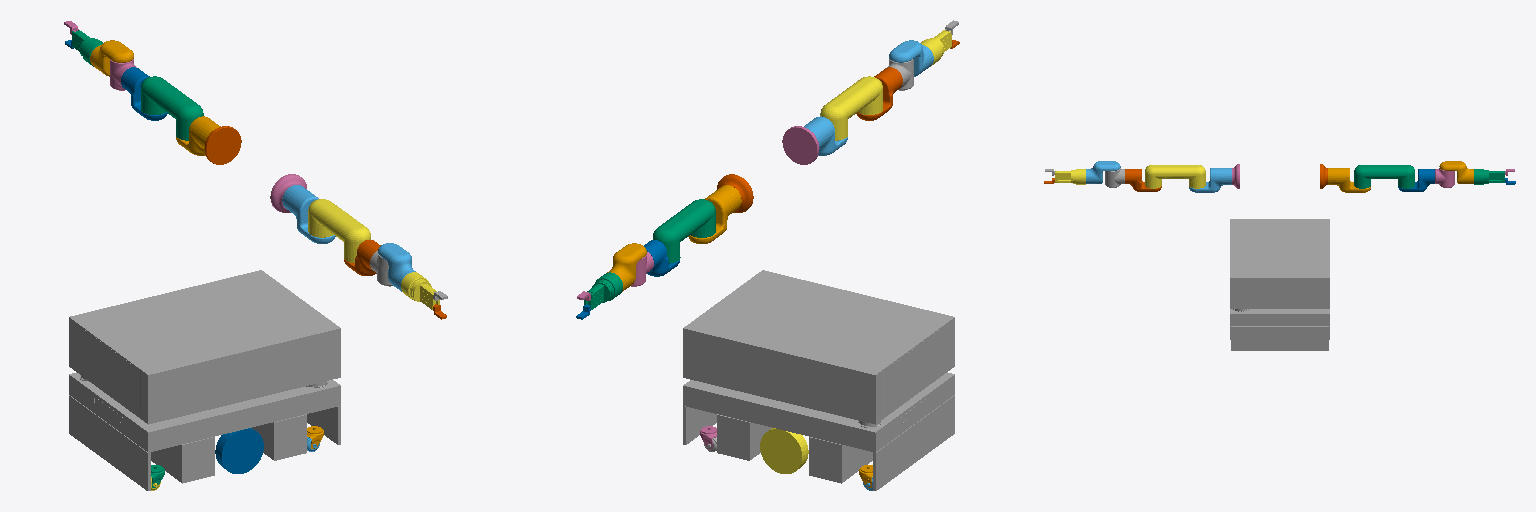
--- Facts derived from the render (not from the file) ---
The picture shows the robot from 3 angles, left to right: view 1: azimuth 30°, elevation 25°; view 2: azimuth 150°, elevation 25°; view 3: azimuth 270°, elevation 25°; orthographic projection.
Robot: arm_dualarm — 32 links, 31 joints (16 revolute, 6 continuous, 4 prismatic, 5 fixed); root link Dual_arm_Robot_Entire; default pose: all joints at 0.
Links seen in each view (by area): view 1: chassis_link, j2_Link_L, j2_Link_R, R_Big_Wheel_Link, base_link_L, j1_Link_R, j5_Link_R, j5_Link_L, j1_Link_L, j6_Link_R, j3_Link_L, j3_Link_R (+2 smaller); view 2: chassis_link, j2_Link_R, j2_Link_L, L_Big_Wheel_Link, base_link_R, j1_Link_L, j5_Link_L, j5_Link_R, j1_Link_R, j6_Link_L, j3_Link_R, j3_Link_L (+2 smaller); view 3: chassis_link, j2_Link_L, j2_Link_R, j1_Link_L, j1_Link_R.
Link boxes in pixels (x1=…): chassis_link: x1=69, y1=270, x2=340, y2=490; j2_Link_L: x1=141, y1=76, x2=203, y2=140; j2_Link_R: x1=308, y1=199, x2=370, y2=262; R_Big_Wheel_Link: x1=215, y1=428, x2=263, y2=473; base_link_L: x1=204, y1=126, x2=241, y2=164; j1_Link_R: x1=282, y1=185, x2=335, y2=243; j5_Link_R: x1=378, y1=243, x2=415, y2=291; j5_Link_L: x1=90, y1=40, x2=133, y2=76; j1_Link_L: x1=176, y1=116, x2=220, y2=155; j6_Link_R: x1=401, y1=272, x2=439, y2=309; j3_Link_L: x1=121, y1=67, x2=167, y2=120; j3_Link_R: x1=344, y1=240, x2=380, y2=275; chassis_link: x1=683, y1=270, x2=954, y2=490; j2_Link_R: x1=820, y1=76, x2=882, y2=140; j2_Link_L: x1=653, y1=199, x2=715, y2=263; L_Big_Wheel_Link: x1=760, y1=428, x2=808, y2=473; base_link_R: x1=782, y1=126, x2=819, y2=164; j1_Link_L: x1=688, y1=185, x2=741, y2=243; j5_Link_L: x1=607, y1=243, x2=646, y2=291; j5_Link_R: x1=889, y1=40, x2=933, y2=76; j1_Link_R: x1=804, y1=116, x2=847, y2=155; j6_Link_L: x1=584, y1=272, x2=622, y2=309; j3_Link_R: x1=856, y1=67, x2=902, y2=120; j3_Link_L: x1=644, y1=240, x2=679, y2=276; chassis_link: x1=1230, y1=219, x2=1329, y2=350; j2_Link_L: x1=1354, y1=165, x2=1414, y2=188; j2_Link_R: x1=1145, y1=165, x2=1205, y2=188; j1_Link_L: x1=1328, y1=168, x2=1370, y2=192; j1_Link_R: x1=1189, y1=168, x2=1231, y2=192.
Bounding box of the posed robot: 0.7058 × 2.39 × 0.9988 m (x, y, z).
33 mesh visuals loaded from 35 distinct referenced files (33 OBJ); not drawn: 2 (reference not matched to a file when rendering).

The robot description file, URDF, robot "arm_dualarm":
<?xml version="1.0" encoding="UTF-8"?>
<robot name="arm_dualarm">
  <joint name="FixedJoint" type="fixed">
    <origin xyz="0.19 0. 0.430636" rpy="0. 0. -1.5707964"/>
    <parent link="Dual_arm_Robot_Entire"/>
    <child link="chassis_link"/>
  </joint>
  <joint name="FixedJoint_L" type="fixed">
    <origin xyz="0.18693 0.2028 0.9262359" rpy="-1.5707964 -1.5707964 0. "/>
    <parent link="Dual_arm_Robot_Entire"/>
    <child link="base_link_L"/>
  </joint>
  <joint name="FixedJoint_R" type="fixed">
    <origin xyz="0.1869287 -0.2028 0.9267368" rpy="-2.9101152 1.570796 1.8022738"/>
    <parent link="Dual_arm_Robot_Entire"/>
    <child link="base_link_R"/>
  </joint>
  <joint name="j1_Joint_L" type="revolute">
    <origin xyz="0.0000001 0. 0.0485 " rpy="0. -0. -3.1415856"/>
    <parent link="base_link_L"/>
    <child link="j1_Link_L"/>
    <axis xyz="0. 0. 1."/>
    <limit lower="-3.0543262" upper="3.0543262" effort="340282346638528859811704183484516925440." velocity="0.8726646"/>
  </joint>
  <joint name="j1_Joint_R" type="revolute">
    <origin xyz="-0. 0. 0.0485" rpy="-0.0000001 -0.0000003 0.0000073"/>
    <parent link="base_link_R"/>
    <child link="j1_Link_R"/>
    <axis xyz="0. 0. 1."/>
    <limit lower="-3.0543262" upper="3.0543262" effort="340282346638528859811704183484516925440." velocity="0.8726646"/>
  </joint>
  <joint name="j2_Joint_L" type="revolute">
    <origin xyz="0.041 0. 0.1685" rpy="-1.5708 -0.0000001 1.5708 "/>
    <parent link="j1_Link_L"/>
    <child link="j2_Link_L"/>
    <axis xyz="0. 0. 1."/>
    <limit lower="-2.0071286" upper="2.0071286" effort="340282346638528859811704183484516925440." velocity="0.8726646"/>
  </joint>
  <joint name="j2_Joint_R" type="revolute">
    <origin xyz="0.041 -0. 0.1685" rpy="-1.5708 -0.0000001 1.5708 "/>
    <parent link="j1_Link_R"/>
    <child link="j2_Link_R"/>
    <axis xyz="0. 0. 1."/>
    <limit lower="-2.0071286" upper="2.0071286" effort="340282346638528859811704183484516925440." velocity="0.8726646"/>
  </joint>
  <joint name="j3_Joint_L" type="revolute">
    <origin xyz="0. -0.223 -0.002" rpy="-0. -0. 3.1415854"/>
    <parent link="j2_Link_L"/>
    <child link="j3_Link_L"/>
    <axis xyz="0. 0. 1."/>
    <limit lower="-1.9198622" upper="1.9198622" effort="340282346638528859811704183484516925440." velocity="0.8726646"/>
  </joint>
  <joint name="j3_Joint_R" type="revolute">
    <origin xyz="-0. -0.223 -0.002" rpy="-0. -0. 3.1415854"/>
    <parent link="j2_Link_R"/>
    <child link="j3_Link_R"/>
    <axis xyz="0. 0. 1."/>
    <limit lower="-1.9198622" upper="1.9198622" effort="340282346638528859811704183484516925440." velocity="0.8726646"/>
  </joint>
  <joint name="j4_Joint_L" type="revolute">
    <origin xyz="-0. 0.1379999 0.043 " rpy="-1.5385476 -1.5707927 3.1093476"/>
    <parent link="j3_Link_L"/>
    <child link="j4_Link_L"/>
    <axis xyz="0. 0. 1."/>
    <limit lower="-3.0543262" upper="3.0543262" effort="340282346638528859811704183484516925440." velocity="0.8726646"/>
  </joint>
  <joint name="j4_Joint_R" type="revolute">
    <origin xyz="-0. 0.1379999 0.043 " rpy="-1.5314447 -1.5707926 3.1022446"/>
    <parent link="j3_Link_R"/>
    <child link="j4_Link_R"/>
    <axis xyz="0. 0. 1."/>
    <limit lower="-3.0543262" upper="3.0543262" effort="340282346638528859811704183484516925440." velocity="0.8726646"/>
  </joint>
  <joint name="j5_Joint_L" type="revolute">
    <origin xyz="0.041488 0.0009849 -0.0675 " rpy="1.5708001 0. -1.5470998"/>
    <parent link="j4_Link_L"/>
    <child link="j5_Link_L"/>
    <axis xyz="0. 0. 1."/>
    <limit lower="-1.8325957" upper="1.8325957" effort="340282346638528859811704183484516925440." velocity="0.8726646"/>
  </joint>
  <joint name="j5_Joint_R" type="revolute">
    <origin xyz="0.041488 0.0009849 -0.0675 " rpy="1.5708001 -0.0000001 -1.5471 "/>
    <parent link="j4_Link_R"/>
    <child link="j5_Link_R"/>
    <axis xyz="0. 0. 1."/>
    <limit lower="-1.8325957" upper="1.8325957" effort="340282346638528859811704183484516925440." velocity="0.8726646"/>
  </joint>
  <joint name="j6_Joint_L" type="revolute">
    <origin xyz="0. -0.137 0.043" rpy="1.5704962 1.547107 -0.0003038"/>
    <parent link="j5_Link_L"/>
    <child link="j6_Link_L"/>
    <axis xyz="0. 0. 1."/>
    <limit lower="-6.2831853" upper="6.2831853" effort="340282346638528859811704183484516925440." velocity="0.8726646"/>
  </joint>
  <joint name="j6_Joint_R" type="revolute">
    <origin xyz="0. -0.137 0.043" rpy="1.5704962 1.547107 -0.0003038"/>
    <parent link="j5_Link_R"/>
    <child link="j6_Link_R"/>
    <axis xyz="0. 0. 1."/>
    <limit lower="-6.2831853" upper="6.2831853" effort="340282346638528859811704183484516925440." velocity="0.8726646"/>
  </joint>
  <joint name="j6_fingerA_Joint_L" type="prismatic">
    <origin xyz="-0.0191426 0.0002141 0.1466099" rpy="1.5707964 0. 1.5707963"/>
    <parent link="j6_Link_L"/>
    <child link="j6_fingerA_Link_L"/>
    <axis xyz="0. 0. 1."/>
    <limit lower="0." upper="0.011" effort="340282346638528859811704183484516925440." velocity="0.005"/>
  </joint>
  <joint name="j6_fingerA_Joint_R" type="prismatic">
    <origin xyz="-0.0191469 0.0002139 0.1466147" rpy="1.5707964 0. 1.5707963"/>
    <parent link="j6_Link_R"/>
    <child link="j6_fingerA_Link_R"/>
    <axis xyz="0. 0. 1."/>
    <limit lower="0." upper="0.011" effort="340282346638528859811704183484516925440." velocity="0.005"/>
  </joint>
  <joint name="j6_fingerB_Joint_L" type="prismatic">
    <origin xyz="0.0191374 -0.0006859 0.1464498" rpy="1.5707964 0. -1.5707965"/>
    <parent link="j6_Link_L"/>
    <child link="j6_fingerB_Link_L"/>
    <axis xyz="0. 0. 1."/>
    <limit lower="0." upper="0.011" effort="340282346638528859811704183484516925440." velocity="0.005"/>
  </joint>
  <joint name="j6_fingerB_Joint_R" type="prismatic">
    <origin xyz="0.0191423 -0.0006837 0.1464498" rpy="1.5707965 0.0000001 -1.5707965"/>
    <parent link="j6_Link_R"/>
    <child link="j6_fingerB_Link_R"/>
    <axis xyz="0. 0. 1."/>
    <limit lower="0." upper="0.011" effort="340282346638528859811704183484516925440." velocity="0.005"/>
  </joint>
  <joint name="joint_BL_caster" type="continuous">
    <origin xyz="-0.0169362 0. -0.04975 " rpy="0. 0. 0."/>
    <parent link="BL_Bracket_Link"/>
    <child link="BL_Wheel_Link"/>
    <axis xyz="0. 1. 0."/>
  </joint>
  <joint name="joint_BL_swing" type="revolute">
    <origin xyz="-0.1913949 -0.48123 -0.3523094" rpy="0. 0. 1.5707964"/>
    <parent link="chassis_link"/>
    <child link="BL_Bracket_Link"/>
    <axis xyz="0. 0. 1."/>
    <limit lower="-6.2831853" upper="6.2831853" effort="10000000." velocity="1.7453293"/>
  </joint>
  <joint name="joint_BR_caster" type="continuous">
    <origin xyz="-0.01694 0. -0.04975" rpy="0. 0. 0."/>
    <parent link="BR_Bracket_Link"/>
    <child link="BR_Wheel_Link"/>
    <axis xyz="0. 1. 0."/>
  </joint>
  <joint name="joint_BR_swing" type="revolute">
    <origin xyz="0.19139 -0.48123 -0.3523094" rpy="0. 0. 1.5707964"/>
    <parent link="chassis_link"/>
    <child link="BR_Bracket_Link"/>
    <axis xyz="0. 0. 1."/>
    <limit lower="-6.2831853" upper="6.2831853" effort="10000000." velocity="1.7453293"/>
  </joint>
  <joint name="joint_Dual_arm_Robot_Entire-Camera" type="fixed">
    <origin xyz="0.2920578 0. 1.140007 " rpy="1.0471976 0. -1.5707964"/>
    <parent link="Dual_arm_Robot_Entire"/>
    <child link="Camera"/>
  </joint>
  <joint name="joint_FL_caster" type="continuous">
    <origin xyz="-0.017 0. -0.04975" rpy="0. 0. 0."/>
    <parent link="FL_Bracket_Link"/>
    <child link="FL_Wheel_Link"/>
    <axis xyz="0. 1. 0."/>
  </joint>
  <joint name="joint_FL_swing" type="revolute">
    <origin xyz="-0.1913949 0.1012312 -0.3523094" rpy="0. 0. 1.5707964"/>
    <parent link="chassis_link"/>
    <child link="FL_Bracket_Link"/>
    <axis xyz="0. 0. 1."/>
    <limit lower="-6.2831853" upper="6.2831853" effort="10000000." velocity="1.7453293"/>
  </joint>
  <joint name="joint_FR_caster" type="continuous">
    <origin xyz="-0.017 0. -0.04975" rpy="0. 0. 0."/>
    <parent link="FR_Bracket_Link"/>
    <child link="FR_Wheel_Link"/>
    <axis xyz="0. 1. 0."/>
  </joint>
  <joint name="joint_FR_swing" type="revolute">
    <origin xyz="0.19139 0.1012312 -0.3523094" rpy="0. 0. 1.5707964"/>
    <parent link="chassis_link"/>
    <child link="FR_Bracket_Link"/>
    <axis xyz="0. 0. 1."/>
    <limit lower="-6.2831853" upper="6.2831853" effort="10000000." velocity="1.7453293"/>
  </joint>
  <joint name="joint_L" type="continuous">
    <origin xyz="-0.22 -0.19 -0.3502465" rpy="0. 0. 1.5707964"/>
    <parent link="chassis_link"/>
    <child link="L_Big_Wheel_Link"/>
    <axis xyz="0. 1. 0."/>
  </joint>
  <joint name="joint_R" type="continuous">
    <origin xyz="0.22 -0.19 -0.350246" rpy="0. 0. 1.5707964"/>
    <parent link="chassis_link"/>
    <child link="R_Big_Wheel_Link"/>
    <axis xyz="0. 1. 0."/>
  </joint>
  <joint name="joint_chassis_link-Imu_Sensor" type="fixed">
    <origin xyz="0. -0.19 -0.030636" rpy="0. 0. 1.5707964"/>
    <parent link="chassis_link"/>
    <child link="Imu_Sensor"/>
  </joint>
  <link name="BL_Bracket_Link">
    <inertial>
      <origin xyz="0. 0. 0." rpy="0. 0. 0."/>
      <mass value="0.2598"/>
      <inertia ixx="0.001" ixy="0." ixz="0." iyy="0.001" iyz="0." izz="0.001"/>
    </inertial>
    <visual>
      <origin xyz="0.2887688 -0.192554 -0.0736793" rpy="0. 0. 0."/>
      <geometry>
        <mesh filename="package://dualarm_description/meshes/BL_Bracket_Link_visuals_009_visuals_009.obj" scale="1. 1. 1."/>
      </geometry>
    </visual>
  </link>
  <link name="BL_Wheel_Link">
    <inertial>
      <origin xyz="0. 0. 0." rpy="0. 0. 0."/>
      <mass value="0.08378"/>
      <inertia ixx="0.001" ixy="0." ixz="0." iyy="0.001" iyz="0." izz="0.001"/>
    </inertial>
    <visual>
      <origin xyz="0. 0. 0." rpy="1.5707964 0. 0. "/>
      <geometry>
        <cylinder radius="0.025" length="0.04"/>
      </geometry>
    </visual>
    <visual>
      <origin xyz="0.3057688 -0.192554 -0.0239293" rpy="0. 0. 0."/>
      <geometry>
        <mesh filename="package://dualarm_description/meshes/BL_Wheel_Link_visuals_007_visuals_007.obj" scale="1. 1. 1."/>
      </geometry>
    </visual>
    <collision>
      <origin xyz="0. 0. 0." rpy="1.5707964 0. 0. "/>
      <geometry>
        <cylinder radius="0.025" length="0.04"/>
      </geometry>
    </collision>
  </link>
  <link name="BR_Bracket_Link">
    <inertial>
      <origin xyz="0. 0. 0." rpy="0. 0. 0."/>
      <mass value="0.2598"/>
      <inertia ixx="0.001" ixy="0." ixz="0." iyy="0.001" iyz="0." izz="0.001"/>
    </inertial>
    <visual>
      <origin xyz="0.2887688 0.187446 -0.0736793" rpy="0. 0. 0."/>
      <geometry>
        <mesh filename="package://dualarm_description/meshes/BR_Bracket_Link_visuals_005_visuals_005.obj" scale="1. 1. 1."/>
      </geometry>
    </visual>
  </link>
  <link name="BR_Wheel_Link">
    <inertial>
      <origin xyz="0. 0. 0." rpy="0. 0. 0."/>
      <mass value="0.08378"/>
      <inertia ixx="0.001" ixy="0." ixz="0." iyy="0.001" iyz="0." izz="0.001"/>
    </inertial>
    <visual>
      <origin xyz="0. 0. 0." rpy="1.5707964 0. 0. "/>
      <geometry>
        <cylinder radius="0.025" length="0.04"/>
      </geometry>
    </visual>
    <visual>
      <origin xyz="0.3057688 0.187446 -0.0239293" rpy="0. 0. 0."/>
      <geometry>
        <mesh filename="package://dualarm_description/meshes/BR_Wheel_Link_visuals_004_visuals_004.obj" scale="1. 1. 1."/>
      </geometry>
    </visual>
    <collision>
      <origin xyz="0. 0. 0." rpy="1.5707964 0. 0. "/>
      <geometry>
        <cylinder radius="0.025" length="0.04"/>
      </geometry>
    </collision>
  </link>
  <link name="Camera"/>
  <link name="Dual_arm_Robot_Entire">
    <visual>
      <origin xyz="0.19 0. 0.430636" rpy="0. 0. -1.5707964"/>
      <geometry>
        <mesh filename="package://dualarm_description/meshes/body_link_mesh.obj" scale="1. 1. 1."/>
      </geometry>
    </visual>
    <collision>
      <origin xyz="0.19 0. 0.430636" rpy="0. 0. -1.5707964"/>
      <geometry>
        <mesh filename="package://dualarm_description/meshes/body_link_mesh.obj" scale="1. 1. 1."/>
      </geometry>
    </collision>
  </link>
  <link name="FL_Bracket_Link">
    <inertial>
      <origin xyz="0. 0. 0." rpy="0. 0. 0."/>
      <mass value="0.2598"/>
      <inertia ixx="0.001" ixy="0." ixz="0." iyy="0.001" iyz="0." izz="0.001"/>
    </inertial>
    <visual>
      <origin xyz="-0.2912312 -0.192554 -0.0736793" rpy="0. 0. 0."/>
      <geometry>
        <mesh filename="package://dualarm_description/meshes/FL_Bracket_Link_visuals_002_visuals_002.obj" scale="1. 1. 1."/>
      </geometry>
    </visual>
  </link>
  <link name="FL_Wheel_Link">
    <inertial>
      <origin xyz="0. 0. 0." rpy="0. 0. 0."/>
      <mass value="0.08378"/>
      <inertia ixx="0.001" ixy="0." ixz="0." iyy="0.001" iyz="0." izz="0.001"/>
    </inertial>
    <visual>
      <origin xyz="0. 0. 0." rpy="1.5707964 0. 0. "/>
      <geometry>
        <cylinder radius="0.025" length="0.04"/>
      </geometry>
    </visual>
    <visual>
      <origin xyz="-0.2742312 -0.192554 -0.0239293" rpy="0. 0. 0."/>
      <geometry>
        <mesh filename="package://dualarm_description/meshes/FL_Wheel_Link_visuals_001_visuals_001.obj" scale="1. 1. 1."/>
      </geometry>
    </visual>
    <collision>
      <origin xyz="0. 0. 0." rpy="1.5707964 0. 0. "/>
      <geometry>
        <cylinder radius="0.025" length="0.04"/>
      </geometry>
    </collision>
  </link>
  <link name="FR_Bracket_Link">
    <inertial>
      <origin xyz="0. 0. 0." rpy="0. 0. 0."/>
      <mass value="0.2598"/>
      <inertia ixx="0.001" ixy="0." ixz="0." iyy="0.001" iyz="0." izz="0.001"/>
    </inertial>
    <visual>
      <origin xyz="-0.2912312 0.187446 -0.0736793" rpy="0. 0. 0."/>
      <geometry>
        <mesh filename="package://dualarm_description/meshes/FR_Bracket_Link_visuals_003_visuals_003.obj" scale="1. 1. 1."/>
      </geometry>
    </visual>
  </link>
  <link name="FR_Wheel_Link">
    <inertial>
      <origin xyz="0. 0. 0." rpy="0. 0. 0."/>
      <mass value="0.08378"/>
      <inertia ixx="0.001" ixy="0." ixz="0." iyy="0.001" iyz="0." izz="0.001"/>
    </inertial>
    <visual>
      <origin xyz="0. 0. 0." rpy="1.5707964 0. 0. "/>
      <geometry>
        <cylinder radius="0.025" length="0.04"/>
      </geometry>
    </visual>
    <visual>
      <origin xyz="-0.2742312 0.187446 -0.0239293" rpy="0. 0. 0."/>
      <geometry>
        <mesh filename="package://dualarm_description/meshes/FR_Wheel_Link_visuals_006_visuals_006.obj" scale="1. 1. 1."/>
      </geometry>
    </visual>
    <collision>
      <origin xyz="0. 0. 0." rpy="1.5707964 0. 0. "/>
      <geometry>
        <cylinder radius="0.025" length="0.04"/>
      </geometry>
    </collision>
  </link>
  <link name="Imu_Sensor"/>
  <link name="L_Big_Wheel_Link">
    <inertial>
      <origin xyz="0. 0. 0." rpy="0. 0. 0."/>
      <mass value="0.83092"/>
      <inertia ixx="0.001" ixy="0." ixz="0." iyy="0.001" iyz="0." izz="0.001"/>
    </inertial>
    <visual>
      <origin xyz="0. 0. 0." rpy="1.5707964 0. 0. "/>
      <geometry>
        <cylinder radius="0.0775" length="0.04"/>
      </geometry>
    </visual>
    <visual>
      <origin xyz="-0.0012313 -0.220554 -0.0734293" rpy="0. 0. 0."/>
      <geometry>
        <mesh filename="package://dualarm_description/meshes/L_Big_Wheel_Link_visuals_011_visuals_011.obj" scale="1. 1. 1."/>
      </geometry>
    </visual>
    <collision>
      <origin xyz="0. 0. 0." rpy="1.5707964 0. 0. "/>
      <geometry>
        <cylinder radius="0.0775" length="0.04"/>
      </geometry>
    </collision>
  </link>
  <link name="R_Big_Wheel_Link">
    <inertial>
      <origin xyz="0. 0. 0." rpy="0. 0. 0."/>
      <mass value="0.83092"/>
      <inertia ixx="0.001" ixy="0." ixz="0." iyy="0.001" iyz="0." izz="0.001"/>
    </inertial>
    <visual>
      <origin xyz="0. 0. 0." rpy="1.5707964 0. 0. "/>
      <geometry>
        <cylinder radius="0.0775" length="0.04"/>
      </geometry>
    </visual>
    <visual>
      <origin xyz="-0.0012313 0.215446 -0.0734293" rpy="0. 0. 0."/>
      <geometry>
        <mesh filename="package://dualarm_description/meshes/R_Big_Wheel_Link_visuals_013_visuals_013.obj" scale="1. 1. 1."/>
      </geometry>
    </visual>
    <collision>
      <origin xyz="0. 0. 0." rpy="1.5707964 0. 0. "/>
      <geometry>
        <cylinder radius="0.0775" length="0.04"/>
      </geometry>
    </collision>
  </link>
  <link name="base_link_L">
    <inertial>
      <origin xyz="0. 0. 0.017894" rpy="0. 0. 0."/>
      <mass value="0.41705"/>
      <inertia ixx="0.0004084" ixy="0." ixz="0." iyy="0.0004084" iyz="0." izz="0.0006961"/>
    </inertial>
    <visual>
      <origin xyz="0. -0. -0." rpy="0. 0. 0."/>
      <geometry>
        <mesh filename="package://dualarm_description/meshes/base_link_L_mesh.obj" scale="1. 1. 1."/>
      </geometry>
    </visual>
    <collision>
      <origin xyz="0. -0. -0." rpy="0. 0. 0."/>
      <geometry>
        <mesh filename="package://dualarm_description/meshes/base_link_L_mesh.obj" scale="1. 1. 1."/>
      </geometry>
    </collision>
  </link>
  <link name="base_link_R">
    <inertial>
      <origin xyz="0. 0. 0.017894" rpy="0. 0. 0."/>
      <mass value="0.41705"/>
      <inertia ixx="0.0004084" ixy="0." ixz="0." iyy="0.0004084" iyz="0." izz="0.0006961"/>
    </inertial>
    <visual>
      <origin xyz="0. 0. -0." rpy="0.0000001 0.0000003 -3.1415925"/>
      <geometry>
        <mesh filename="package://dualarm_description/meshes/base_link_R_mesh.obj" scale="1. 1. 1."/>
      </geometry>
    </visual>
    <collision>
      <origin xyz="0. 0. -0." rpy="0.0000001 0.0000003 -3.1415925"/>
      <geometry>
        <mesh filename="package://dualarm_description/meshes/base_link_R_mesh.obj" scale="1. 1. 1."/>
      </geometry>
    </collision>
  </link>
  <link name="chassis_link">
    <inertial>
      <origin xyz="0. 0. 0." rpy="0. 0. 0."/>
      <mass value="238.3500061"/>
      <inertia ixx="0.001" ixy="0." ixz="0." iyy="0.001" iyz="0." izz="0.001"/>
    </inertial>
    <visual>
      <origin xyz="0. -0.19 -0.2313204" rpy="0. 0. 1.5707964"/>
      <geometry>
        <box size="0.705 0.505 0.0706362"/>
      </geometry>
    </visual>
    <visual>
      <origin xyz="0. 0.1574524 -0.3359292" rpy="0. 0. 1.5707964"/>
      <geometry>
        <box size="0.01063 0.4991724 0.1345065"/>
      </geometry>
    </visual>
    <visual>
      <origin xyz="0. -0.53745 -0.335926" rpy="0. 0. 1.5707964"/>
      <geometry>
        <box size="0.0106286 0.49917 0.13451 "/>
      </geometry>
    </visual>
    <visual>
      <origin xyz="0. -0.19 -0.0819036" rpy="0. 0. 1.5707964"/>
      <geometry>
        <box size="0.705 0.505 0.1727196"/>
      </geometry>
    </visual>
    <visual>
      <origin xyz="0. -0.3586082 -0.335926 " rpy="0. 0. 1.5707964"/>
      <geometry>
        <box size="0.12 0.505 0.13451"/>
      </geometry>
    </visual>
    <visual>
      <origin xyz="0. -0.02139 -0.335926" rpy="0. 0. 1.5707964"/>
      <geometry>
        <box size="0.12 0.505 0.13451"/>
      </geometry>
    </visual>
    <visual>
      <origin xyz="0.19 -0.5 -0.402636" rpy="0. 0. 1.5707964"/>
      <geometry>
        <mesh filename="package://dualarm_description/meshes/CHASSIS_link_mesh.obj" scale="1. 1. 1."/>
      </geometry>
    </visual>
    <visual>
      <origin xyz="0. -0.531 -0.220386" rpy="0. 0. 1.5707964"/>
      <geometry>
        <mesh filename="package://dualarm_description/meshes/B_Camera_Link_mesh.obj" scale="1. 1. 1."/>
      </geometry>
    </visual>
    <visual>
      <origin xyz="-0.197 -0.49 -0.184546" rpy="0. 0. 1.5707964"/>
      <geometry>
        <mesh filename="package://dualarm_description/meshes/B_LEIDA_Link_mesh.obj" scale="1. 1. 1."/>
      </geometry>
    </visual>
    <visual>
      <origin xyz="-0.00005 0.14495 -0.220336" rpy="0. 0. 1.5707964"/>
      <geometry>
        <mesh filename="package://dualarm_description/meshes/F_Camera_Link_mesh.obj" scale="1. 1. 1."/>
      </geometry>
    </visual>
    <visual>
      <origin xyz="0.1970002 0.104 -0.184546 " rpy="0. 0. 1.5707964"/>
      <geometry>
        <mesh filename="package://dualarm_description/meshes/F_LEIDA_Link_mesh.obj" scale="1. 1. 1."/>
      </geometry>
    </visual>
    <visual>
      <origin xyz="0. -0.193 -0.149886" rpy="0. 0. 1.5707964"/>
      <geometry>
        <mesh filename="package://dualarm_description/meshes/tank_Link_mesh.obj" scale="1. 1. 1."/>
      </geometry>
    </visual>
    <collision>
      <origin xyz="0. -0.19 -0.2313204" rpy="0. 0. 1.5707964"/>
      <geometry>
        <box size="0.705 0.505 0.0706362"/>
      </geometry>
    </collision>
    <collision>
      <origin xyz="0. 0.1574524 -0.3359292" rpy="0. 0. 1.5707964"/>
      <geometry>
        <box size="0.01063 0.4991724 0.1345065"/>
      </geometry>
    </collision>
    <collision>
      <origin xyz="0. -0.53745 -0.335926" rpy="0. 0. 1.5707964"/>
      <geometry>
        <box size="0.0106286 0.49917 0.13451 "/>
      </geometry>
    </collision>
    <collision>
      <origin xyz="0. -0.19 -0.0819036" rpy="0. 0. 1.5707964"/>
      <geometry>
        <box size="0.705 0.505 0.1727196"/>
      </geometry>
    </collision>
    <collision>
      <origin xyz="0. -0.3586082 -0.335926 " rpy="0. 0. 1.5707964"/>
      <geometry>
        <box size="0.12 0.505 0.13451"/>
      </geometry>
    </collision>
    <collision>
      <origin xyz="0. -0.02139 -0.335926" rpy="0. 0. 1.5707964"/>
      <geometry>
        <box size="0.12 0.505 0.13451"/>
      </geometry>
    </collision>
  </link>
  <link name="j1_Link_L">
    <inertial>
      <origin xyz="0.02283 -0.0000001 0.07922 " rpy="0. 0. 0."/>
      <mass value="1.071"/>
      <inertia ixx="0.0033977" ixy="0." ixz="-0.0011756" iyy="0.0041143" iyz="-0." izz="0.0018011"/>
    </inertial>
    <visual>
      <origin xyz="0. 0. -0." rpy="-0. 0. 0.0000001"/>
      <geometry>
        <mesh filename="package://dualarm_description/meshes/j1_Link_L_mesh.obj" scale="1. 1. 1."/>
      </geometry>
    </visual>
    <collision>
      <origin xyz="0. 0. -0." rpy="-0. 0. 0.0000001"/>
      <geometry>
        <mesh filename="package://dualarm_description/meshes/j1_Link_L_mesh.obj" scale="1. 1. 1."/>
      </geometry>
    </collision>
  </link>
  <link name="j1_Link_R">
    <inertial>
      <origin xyz="0.02283 -0.0000001 0.07922 " rpy="0. 0. 0."/>
      <mass value="1.071"/>
      <inertia ixx="0.0033977" ixy="0." ixz="-0.0011756" iyy="0.0041143" iyz="-0." izz="0.0018011"/>
    </inertial>
    <visual>
      <origin xyz="0. 0. -0." rpy="0. 0. -0."/>
      <geometry>
        <mesh filename="package://dualarm_description/meshes/j1_Link_R_mesh.obj" scale="1. 1. 1."/>
      </geometry>
    </visual>
    <collision>
      <origin xyz="0. 0. -0." rpy="0. 0. -0."/>
      <geometry>
        <mesh filename="package://dualarm_description/meshes/j1_Link_R_mesh.obj" scale="1. 1. 1."/>
      </geometry>
    </collision>
  </link>
  <link name="j2_Link_L">
    <inertial>
      <origin xyz="0. -0.1115 0.053099" rpy="0. 0. 0."/>
      <mass value="1.8748"/>
      <inertia ixx="0.017658" ixy="0." ixz="0." iyy="0.002303" iyz="0." izz="0.017242"/>
    </inertial>
    <visual>
      <origin xyz="-0. 0. -0." rpy="0. -0. 0."/>
      <geometry>
        <mesh filename="package://dualarm_description/meshes/j2_Link_L_mesh.obj" scale="1. 1. 1."/>
      </geometry>
    </visual>
    <collision>
      <origin xyz="-0. 0. -0." rpy="0. -0. 0."/>
      <geometry>
        <mesh filename="package://dualarm_description/meshes/j2_Link_L_mesh.obj" scale="1. 1. 1."/>
      </geometry>
    </collision>
  </link>
  <link name="j2_Link_R">
    <inertial>
      <origin xyz="0. -0.1115 0.053099" rpy="0. 0. 0."/>
      <mass value="1.8748"/>
      <inertia ixx="0.017658" ixy="0." ixz="0." iyy="0.002303" iyz="0." izz="0.017242"/>
    </inertial>
    <visual>
      <origin xyz="-0. 0. -0." rpy="0. -0. 0."/>
      <geometry>
        <mesh filename="package://dualarm_description/meshes/j2_Link_R_mesh.obj" scale="1. 1. 1."/>
      </geometry>
    </visual>
    <collision>
      <origin xyz="-0. 0. -0." rpy="0. -0. 0."/>
      <geometry>
        <mesh filename="package://dualarm_description/meshes/j2_Link_R_mesh.obj" scale="1. 1. 1."/>
      </geometry>
    </collision>
  </link>
  <link name="j3_Link_L">
    <inertial>
      <origin xyz="-0.0000001 0.070277 0.015242 " rpy="0. 0. 0."/>
      <mass value="0.76714"/>
      <inertia ixx="0.0023668" ixy="0." ixz="-0." iyy="0.0011702" iyz="-0.000731" izz="0.0018731"/>
    </inertial>
    <visual>
      <origin xyz="0. 0. 0." rpy="0. 0. 0."/>
      <geometry>
        <mesh filename="package://dualarm_description/meshes/j3_Link_L_mesh.obj" scale="1. 1. 1."/>
      </geometry>
    </visual>
    <collision>
      <origin xyz="0. 0. 0." rpy="0. 0. 0."/>
      <geometry>
        <mesh filename="package://dualarm_description/meshes/j3_Link_L_mesh.obj" scale="1. 1. 1."/>
      </geometry>
    </collision>
  </link>
  <link name="j3_Link_R">
    <inertial>
      <origin xyz="-0.0000001 0.070277 0.015242 " rpy="0. 0. 0."/>
      <mass value="0.76714"/>
      <inertia ixx="0.0023668" ixy="0." ixz="-0." iyy="0.0011702" iyz="-0.000731" izz="0.0018731"/>
    </inertial>
    <visual>
      <origin xyz="-0. -0. 0." rpy="0. 0. 0."/>
      <geometry>
        <mesh filename="package://dualarm_description/meshes/j3_Link_R_mesh.obj" scale="1. 1. 1."/>
      </geometry>
    </visual>
    <collision>
      <origin xyz="-0. -0. 0." rpy="0. 0. 0."/>
      <geometry>
        <mesh filename="package://dualarm_description/meshes/j3_Link_R_mesh.obj" scale="1. 1. 1."/>
      </geometry>
    </collision>
  </link>
  <link name="j4_Link_L">
    <inertial>
      <origin xyz="-0.0037368 -0.0000883 -0.055958 " rpy="0. 0. 0."/>
      <mass value="0.61241"/>
      <inertia ixx="0.0006883" ixy="-0.0000044" ixz="-0.0000265" iyy="0.0008747" iyz="-0.0000006" izz="0.0006657"/>
    </inertial>
    <visual>
      <origin xyz="-0. -0. -0." rpy="0. -0.0000001 -0. "/>
      <geometry>
        <mesh filename="package://dualarm_description/meshes/j4_Link_L_mesh.obj" scale="1. 1. 1."/>
      </geometry>
    </visual>
    <collision>
      <origin xyz="-0. -0. -0." rpy="0. -0.0000001 -0. "/>
      <geometry>
        <mesh filename="package://dualarm_description/meshes/j4_Link_L_mesh.obj" scale="1. 1. 1."/>
      </geometry>
    </collision>
  </link>
  <link name="j4_Link_R">
    <inertial>
      <origin xyz="-0.0037368 -0.0000883 -0.055958 " rpy="0. 0. 0."/>
      <mass value="0.61241"/>
      <inertia ixx="0.0006883" ixy="-0.0000044" ixz="-0.0000265" iyy="0.0008747" iyz="-0.0000006" izz="0.0006657"/>
    </inertial>
    <visual>
      <origin xyz="-0. -0. -0." rpy="-0.0000001 -0.0000001 -0.0000001"/>
      <geometry>
        <mesh filename="package://dualarm_description/meshes/j4_Link_R_mesh.obj" scale="1. 1. 1."/>
      </geometry>
    </visual>
    <collision>
      <origin xyz="-0. -0. -0." rpy="-0.0000001 -0.0000001 -0.0000001"/>
      <geometry>
        <mesh filename="package://dualarm_description/meshes/j4_Link_R_mesh.obj" scale="1. 1. 1."/>
      </geometry>
    </collision>
  </link>
  <link name="j5_Link_L">
    <inertial>
      <origin xyz="0. -0.068149 0.018232" rpy="0. 0. 0."/>
      <mass value="0.67991"/>
      <inertia ixx="0.0018403" ixy="0." ixz="0." iyy="0.0009891" iyz="0.0005627" izz="0.0013908"/>
    </inertial>
    <visual>
      <origin xyz="-0. -0. 0." rpy="-0. -0. 0."/>
      <geometry>
        <mesh filename="package://dualarm_description/meshes/j5_Link_L_mesh.obj" scale="1. 1. 1."/>
      </geometry>
    </visual>
    <collision>
      <origin xyz="-0. -0. 0." rpy="-0. -0. 0."/>
      <geometry>
        <mesh filename="package://dualarm_description/meshes/j5_Link_L_mesh.obj" scale="1. 1. 1."/>
      </geometry>
    </collision>
  </link>
  <link name="j5_Link_R">
    <inertial>
      <origin xyz="0. -0.068149 0.018232" rpy="0. 0. 0."/>
      <mass value="0.67991"/>
      <inertia ixx="0.0018403" ixy="0." ixz="0." iyy="0.0009891" iyz="0.0005627" izz="0.0013908"/>
    </inertial>
    <visual>
      <origin xyz="-0. -0. -0." rpy="-0. -0. 0."/>
      <geometry>
        <mesh filename="package://dualarm_description/meshes/j5_Link_R_mesh.obj" scale="1. 1. 1."/>
      </geometry>
    </visual>
    <collision>
      <origin xyz="-0. -0. -0." rpy="-0. -0. 0."/>
      <geometry>
        <mesh filename="package://dualarm_description/meshes/j5_Link_R_mesh.obj" scale="1. 1. 1."/>
      </geometry>
    </collision>
  </link>
  <link name="j6_Link_L">
    <inertial>
      <origin xyz="-0. 0. 0.052089" rpy="0. 0. 0."/>
      <mass value="0.46058"/>
      <inertia ixx="0.0003679" ixy="0.0000088" ixz="0." iyy="0.0003859" iyz="0." izz="0.0002959"/>
    </inertial>
    <visual>
      <origin xyz="-0. -0. 0." rpy="-0. -0. 0.3665192"/>
      <geometry>
        <mesh filename="package://dualarm_description/meshes/j6_Link_L_mesh.obj" scale="1. 1. 1."/>
      </geometry>
    </visual>
    <collision>
      <origin xyz="-0. -0. 0." rpy="-0. -0. 0.3665192"/>
      <geometry>
        <mesh filename="package://dualarm_description/meshes/j6_Link_L_mesh.obj" scale="1. 1. 1."/>
      </geometry>
    </collision>
  </link>
  <link name="j6_Link_R">
    <inertial>
      <origin xyz="-0. 0. 0.052089" rpy="0. 0. 0."/>
      <mass value="0.46058"/>
      <inertia ixx="0.0003679" ixy="0.0000088" ixz="0." iyy="0.0003859" iyz="0." izz="0.0002959"/>
    </inertial>
    <visual>
      <origin xyz="-0. -0. 0." rpy="-0. -0. 0.3665192"/>
      <geometry>
        <mesh filename="package://dualarm_description/meshes/j6_Link_R_mesh.obj" scale="1. 1. 1."/>
      </geometry>
    </visual>
    <collision>
      <origin xyz="-0. -0. 0." rpy="-0. -0. 0.3665192"/>
      <geometry>
        <mesh filename="package://dualarm_description/meshes/j6_Link_R_mesh.obj" scale="1. 1. 1."/>
      </geometry>
    </collision>
  </link>
  <link name="j6_fingerA_Link_L">
    <inertial>
      <origin xyz="-0.0087724 0.027938 0. " rpy="0. 0. 0."/>
      <mass value="0.016327"/>
      <inertia ixx="0.0000052" ixy="0.0000014" ixz="0." iyy="0.0000017" iyz="0." izz="0.0000055"/>
    </inertial>
    <visual>
      <origin xyz="0. 0. -0." rpy="-0. -1.5707961 0. "/>
      <geometry>
        <mesh filename="package://dualarm_description/meshes/j6_fingerA_Link_L_mesh.obj" scale="1. 1. 1."/>
      </geometry>
    </visual>
    <collision>
      <origin xyz="0. 0. -0." rpy="-0. -1.5707961 0. "/>
      <geometry>
        <mesh filename="package://dualarm_description/meshes/j6_fingerA_Link_L_mesh.obj" scale="1. 1. 1."/>
      </geometry>
    </collision>
  </link>
  <link name="j6_fingerA_Link_R">
    <inertial>
      <origin xyz="-0.0087724 0.027938 0. " rpy="0. 0. 0."/>
      <mass value="0.016327"/>
      <inertia ixx="0.0000052" ixy="0.0000014" ixz="0." iyy="0.0000017" iyz="0." izz="0.0000055"/>
    </inertial>
    <visual>
      <origin xyz="0. -0. 0." rpy="-0. -1.5707961 0. "/>
      <geometry>
        <mesh filename="package://dualarm_description/meshes/j6_fingerA_Link_R_mesh.obj" scale="1. 1. 1."/>
      </geometry>
    </visual>
    <collision>
      <origin xyz="0. -0. 0." rpy="-0. -1.5707961 0. "/>
      <geometry>
        <mesh filename="package://dualarm_description/meshes/j6_fingerA_Link_R_mesh.obj" scale="1. 1. 1."/>
      </geometry>
    </collision>
  </link>
  <link name="j6_fingerB_Link_L">
    <inertial>
      <origin xyz="-0.0087724 0.027938 0. " rpy="0. 0. 0."/>
      <mass value="0.016327"/>
      <inertia ixx="0.0000052" ixy="0.0000014" ixz="0." iyy="0.0000017" iyz="0." izz="0.0000055"/>
    </inertial>
    <visual>
      <origin xyz="-0. 0. 0." rpy="-0.1335258 -1.5707961 0.1335258"/>
      <geometry>
        <mesh filename="package://dualarm_description/meshes/j6_fingerB_Link_L_mesh.obj" scale="1. 1. 1."/>
      </geometry>
    </visual>
    <collision>
      <origin xyz="-0. 0. 0." rpy="-0.1335258 -1.5707961 0.1335258"/>
      <geometry>
        <mesh filename="package://dualarm_description/meshes/j6_fingerB_Link_L_mesh.obj" scale="1. 1. 1."/>
      </geometry>
    </collision>
  </link>
  <link name="j6_fingerB_Link_R">
    <inertial>
      <origin xyz="-0.0087724 0.027938 0. " rpy="0. 0. 0."/>
      <mass value="0.016327"/>
      <inertia ixx="0.0000052" ixy="0.0000014" ixz="0." iyy="0.0000017" iyz="0." izz="0.0000055"/>
    </inertial>
    <visual>
      <origin xyz="-0. 0. 0." rpy="-0.5888022 -1.5707961 0.5888023"/>
      <geometry>
        <mesh filename="package://dualarm_description/meshes/j6_fingerB_Link_R_mesh.obj" scale="1. 1. 1."/>
      </geometry>
    </visual>
    <collision>
      <origin xyz="-0. 0. 0." rpy="-0.5888022 -1.5707961 0.5888023"/>
      <geometry>
        <mesh filename="package://dualarm_description/meshes/j6_fingerB_Link_R_mesh.obj" scale="1. 1. 1."/>
      </geometry>
    </collision>
  </link>
</robot>
